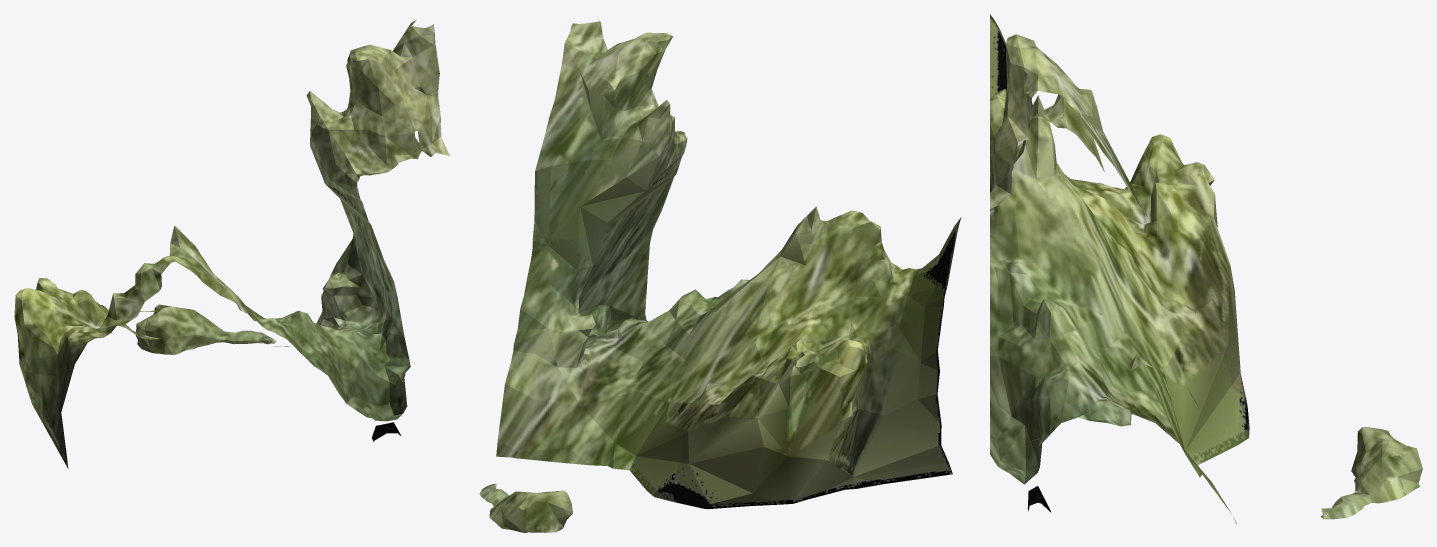
3 renders of one model, left to right at view 1: azimuth 30°, elevation 25°; view 2: azimuth 150°, elevation 25°; view 3: azimuth 270°, elevation 25°, orthographic. The views are drawn at different scales.
Bounding box in the file's own units: 5.9 × 5.9 × 5.05.
3 materials, 3 textured.
